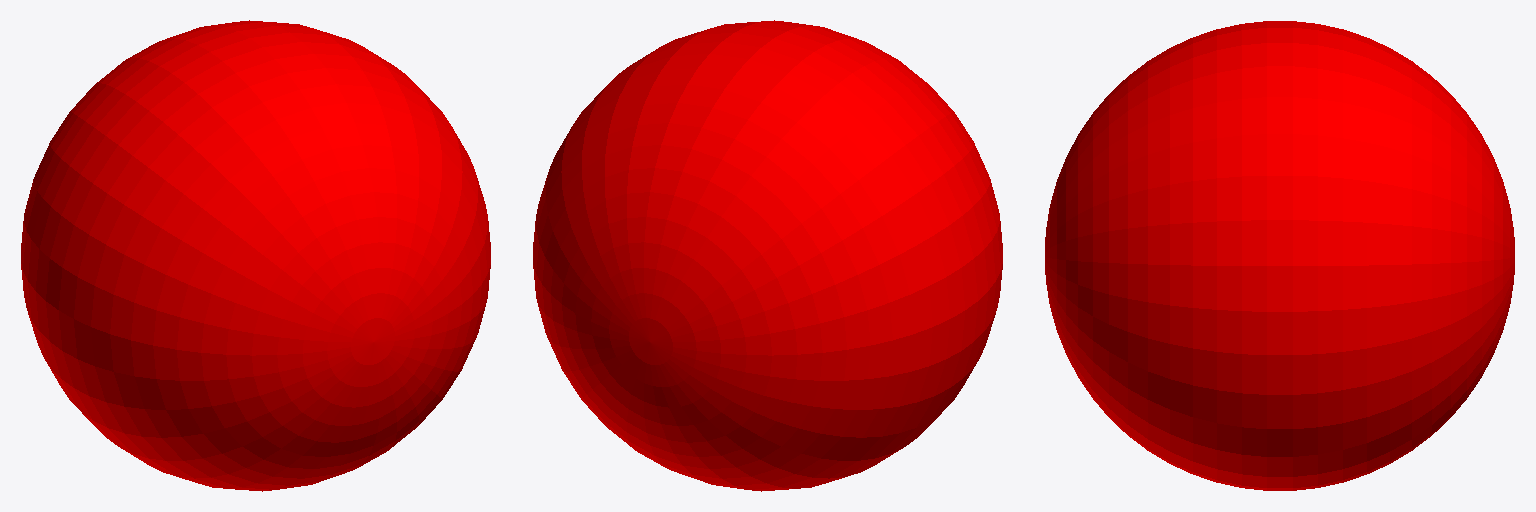
URDF robot description (urdf_robot):
<?xml version="1.0" ?>
<robot name="urdf_robot">
  <link name="baseLink">
  	<contact>
      <rolling_friction value="0.03"/>
      <spinning_friction value="0.03"/>
    </contact>

    <inertial>
      <origin rpy="0 0 0" xyz="0 0 0"/>
       <mass value="10.0"/>
       <inertia ixx="1" ixy="0" ixz="0" iyy="1" iyz="0" izz="1"/>
    </inertial>
    <visual>
      <origin rpy="0 0 0" xyz="0 0 0"/>
      <geometry>
				<mesh filename="textured_sphere_smooth.obj" scale="0.5 0.5 0.5"/>      
      </geometry>
      <material name="red_transparent">
        <color rgba="1 0 0 0.5"/>
        <specular rgb="11 1 1"/>
      </material>
    </visual>
    <collision>
      <origin rpy="0 0 0" xyz="0 0 0"/>
      <geometry>
	 <sphere radius="0.5"/>
      </geometry>
    </collision>
  </link>
</robot>


--- What the picture shows (computed from the rendered views, not written in the file) ---
The picture shows the robot from 3 angles, left to right: view 1: azimuth 30°, elevation 25°; view 2: azimuth 150°, elevation 25°; view 3: azimuth 270°, elevation 25°; orthographic projection.
Robot: urdf_robot — 1 links, 0 joints (none); root link baseLink; default pose: all joints at 0.
Links seen in each view (by area): view 1: baseLink; view 2: baseLink; view 3: baseLink.
Link boxes in pixels (<box>): baseLink: <box>21,20,490,491</box>; baseLink: <box>533,20,1002,491</box>; baseLink: <box>1045,21,1514,490</box>.
Size in the robot's own frame: 0.9985 by 1 by 0.9985 metres.
Meshes: 1 distinct files referenced, 1 mesh visuals loaded (1 OBJ).